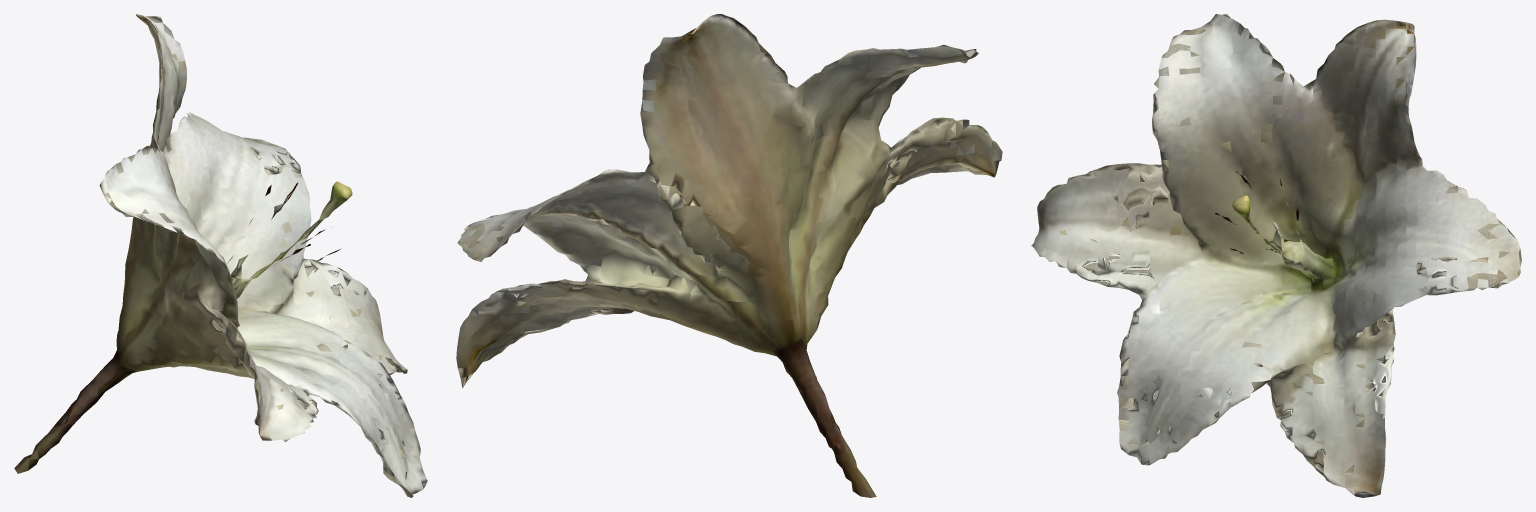
3 views of the same model, side by side, from view 1: azimuth 30°, elevation 25°; view 2: azimuth 150°, elevation 25°; view 3: azimuth 270°, elevation 25° (orthographic). The views are drawn at different scales.
Parts seen in each view (by area): view 1: d8d98b2b; view 2: d8d98b2b; view 3: d8d98b2b.
Boxes of the visible parts, x1,y1,x2,y2 form: d8d98b2b: (14, 14, 427, 497); d8d98b2b: (456, 14, 1002, 497); d8d98b2b: (1031, 14, 1521, 497).
Size of the model in its own units: 0.1192 by 0.124 by 0.1439.
1 material, 1 textured.
